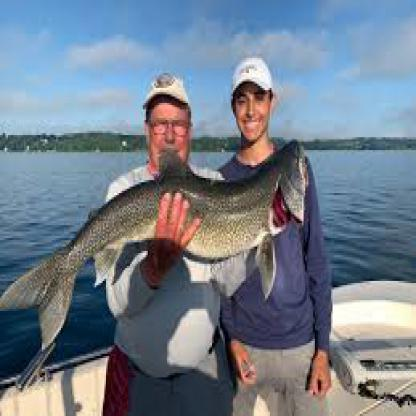fish: (0, 130, 308, 341)
